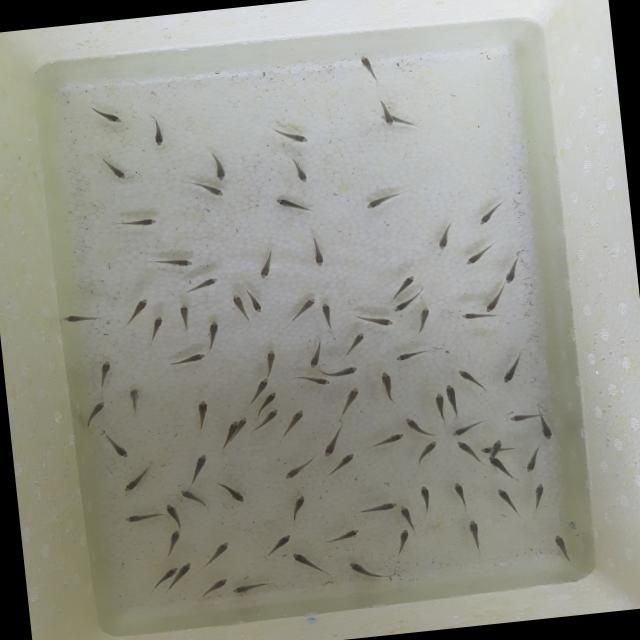fingerling: (345, 554, 396, 586), (286, 546, 331, 582), (329, 384, 364, 426), (494, 345, 528, 388), (460, 235, 504, 268), (118, 463, 156, 498), (270, 191, 318, 218), (198, 536, 236, 570), (471, 195, 510, 228), (86, 98, 126, 130), (146, 250, 198, 274), (354, 48, 383, 90), (210, 474, 248, 506), (142, 311, 173, 350), (192, 574, 235, 602), (110, 211, 160, 235), (186, 395, 216, 435), (363, 188, 409, 214), (374, 368, 402, 410), (492, 484, 524, 520), (318, 524, 366, 548), (266, 123, 312, 148), (100, 428, 133, 462), (278, 406, 310, 441), (429, 220, 462, 253), (96, 153, 130, 185), (408, 303, 440, 337), (284, 153, 314, 189), (283, 294, 319, 324), (80, 394, 110, 430), (252, 247, 280, 285), (160, 348, 208, 370), (205, 143, 232, 182), (92, 354, 119, 393), (279, 454, 318, 481), (389, 344, 436, 366), (184, 450, 211, 488), (547, 529, 574, 567), (142, 112, 170, 148), (180, 272, 222, 296), (454, 364, 488, 392), (59, 308, 104, 329), (342, 327, 372, 358), (486, 453, 518, 482), (316, 425, 344, 458), (158, 527, 186, 560), (284, 492, 310, 527), (412, 438, 442, 468), (230, 577, 280, 595), (447, 478, 473, 512), (355, 311, 397, 332), (447, 416, 487, 438), (463, 515, 486, 553), (200, 316, 225, 350), (115, 506, 162, 524), (355, 498, 402, 516), (364, 432, 406, 452), (500, 253, 525, 286), (256, 347, 282, 378), (442, 380, 462, 420), (124, 294, 152, 322), (179, 486, 208, 513), (415, 481, 436, 518), (262, 532, 294, 556), (195, 180, 228, 203), (302, 340, 326, 371), (390, 526, 414, 557), (243, 284, 266, 316), (520, 444, 543, 475), (481, 287, 506, 315), (316, 298, 336, 333), (503, 406, 538, 426), (389, 272, 418, 296), (174, 300, 195, 333), (527, 480, 548, 513), (161, 500, 184, 530), (452, 438, 479, 462), (308, 238, 328, 270), (227, 289, 248, 319), (220, 417, 241, 447), (126, 384, 145, 417), (432, 390, 448, 428), (376, 98, 396, 128), (400, 414, 426, 437), (293, 374, 330, 389), (322, 363, 360, 377), (454, 308, 486, 324), (336, 446, 358, 469), (536, 416, 553, 443), (398, 502, 414, 530), (389, 298, 414, 315), (252, 376, 270, 396), (260, 390, 278, 409), (177, 560, 195, 578), (262, 406, 279, 424), (160, 565, 178, 579), (238, 414, 249, 431), (477, 444, 492, 456), (492, 438, 502, 448)
